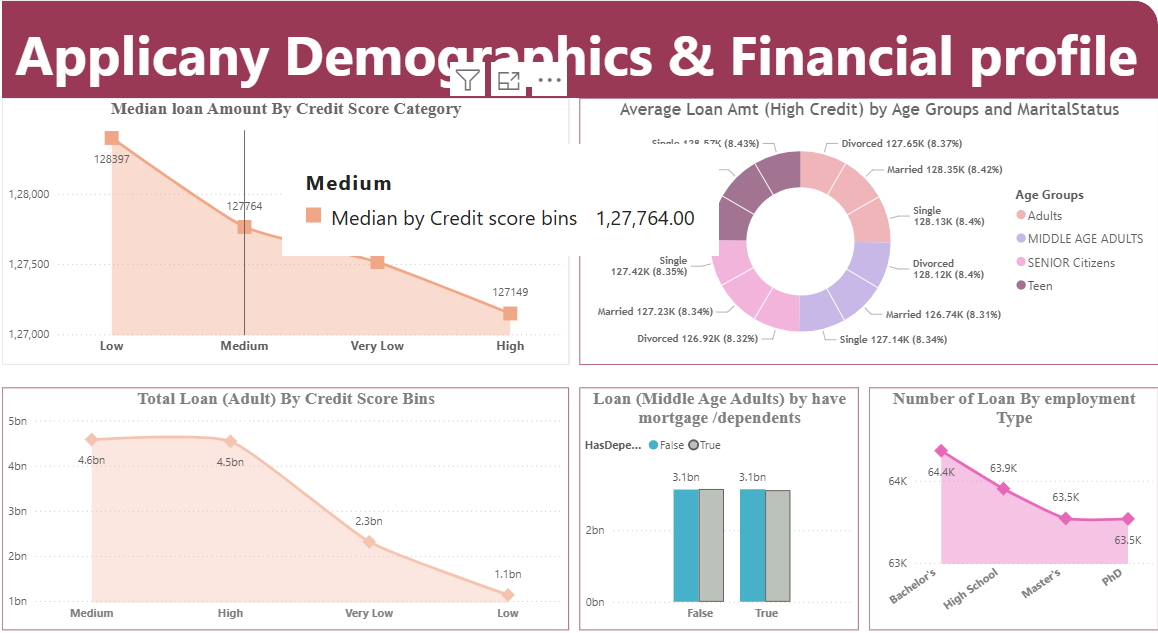

The dashboard page shown, as its layout file describes it:
{"tool":"powerbi","page":{"name":"Applicany Demographics &  Financial profile","canvas":[1280,720],"ordinal":1},"visuals":[{"type":"shape","box":[16.7,14.8,1247.9,105.5],"z":0},{"type":"lineChart","title":"Median loan Amount By Credit Score Category","fields":{"Y":["Measure Table 2.Median by Credit score bins"],"Category":["Loan+Dataset+Link (1).Credit Score Bins"]},"box":[16.2,119.8,612.1,288.2],"z":1000},{"type":"donutChart","fields":{"Y":["Measure Table 2.Average Loan Amt (High Credit)"],"Series":["Loan+Dataset+Link (1).MaritalStatus"],"Category":["Loan+Dataset+Link (1).Age Groups"]},"box":[639.6,119.8,625,288.2],"z":2000},{"type":"lineChart","title":"Total Loan (Adult) By Credit Score Bins","fields":{"Y":["Measure Table 2.Total Loan (Credit Bins)"],"Category":["Loan+Dataset+Link (1).Credit Score Bins"]},"box":[16.2,432.3,612.1,262.3],"z":3000},{"type":"clusteredColumnChart","title":"Loan (Middle Age Adults) by have mortgage /dependents","fields":{"Y":["Measure Table 2.Total Loan (Middle Age + Adults)"],"Category":["Loan+Dataset+Link (1).HasMortgage"],"Series":["Loan+Dataset+Link (1).HasDependents"]},"box":[639.6,432.3,301.2,262.3],"z":4000},{"type":"lineChart","title":"Number of Loan By employment Type","fields":{"Y":["Measure Table 2.Loans by Education type"],"Category":["Loan+Dataset+Link (1).Education"]},"box":[952.1,432.3,312.5,262.3],"z":5000}]}

Visuals, with their boxes in screenshot pixels (x1, y1, x2, y2), scaled from the page's 1280x720 canvas onto the 1158x633 screenshot:
shape: [15, 13, 1144, 106]
"Median loan Amount By Credit Score Category" lineChart: [15, 105, 568, 359]
donutChart - Measure Table 2.Average Loan Amt (High Credit) x Loan+Dataset+Link (1).MaritalStatus: [579, 105, 1144, 359]
"Total Loan (Adult) By Credit Score Bins" lineChart: [15, 380, 568, 611]
"Loan (Middle Age Adults) by have mortgage /dependents" clusteredColumnChart: [579, 380, 851, 611]
"Number of Loan By employment Type" lineChart: [861, 380, 1144, 611]
